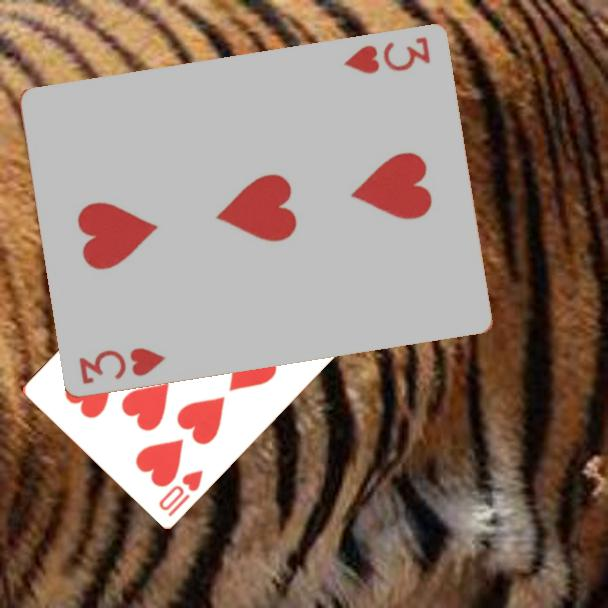h03: (75, 343, 169, 387), (340, 33, 434, 76)
h10: (155, 466, 206, 519)
